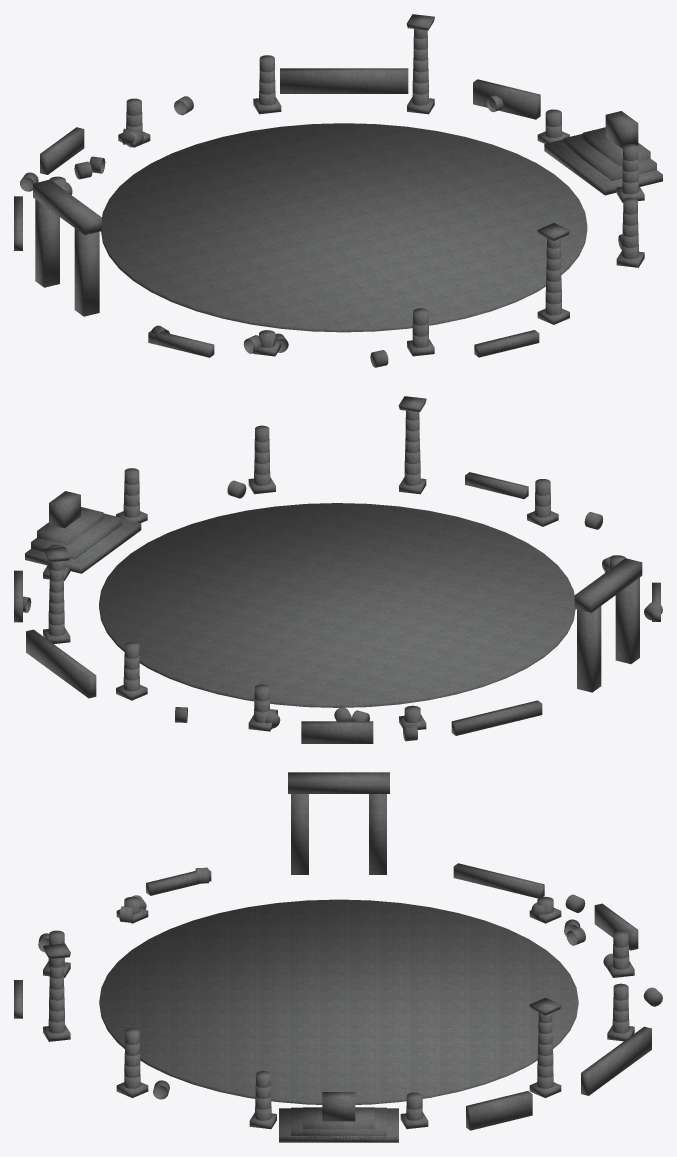
The model's file is SM_Island_Temple.fbx.
3 views of the same model, one above another, from view 1: azimuth 30°, elevation 25°; view 2: azimuth 150°, elevation 25°; view 3: azimuth 270°, elevation 25° (orthographic). The views are drawn at different scales.
Visible parts, largest first — view 1: SM_Island_Temple; view 2: SM_Island_Temple; view 3: SM_Island_Temple.
Part boxes in pixels (x1,y1,x2,y2): SM_Island_Temple: (14,14,662,367); SM_Island_Temple: (14,396,662,743); SM_Island_Temple: (14,772,662,1142).
Bounding box in the file's own units: 4355 × 702 × 4334.
Materials: 1 (1 with a texture image).
